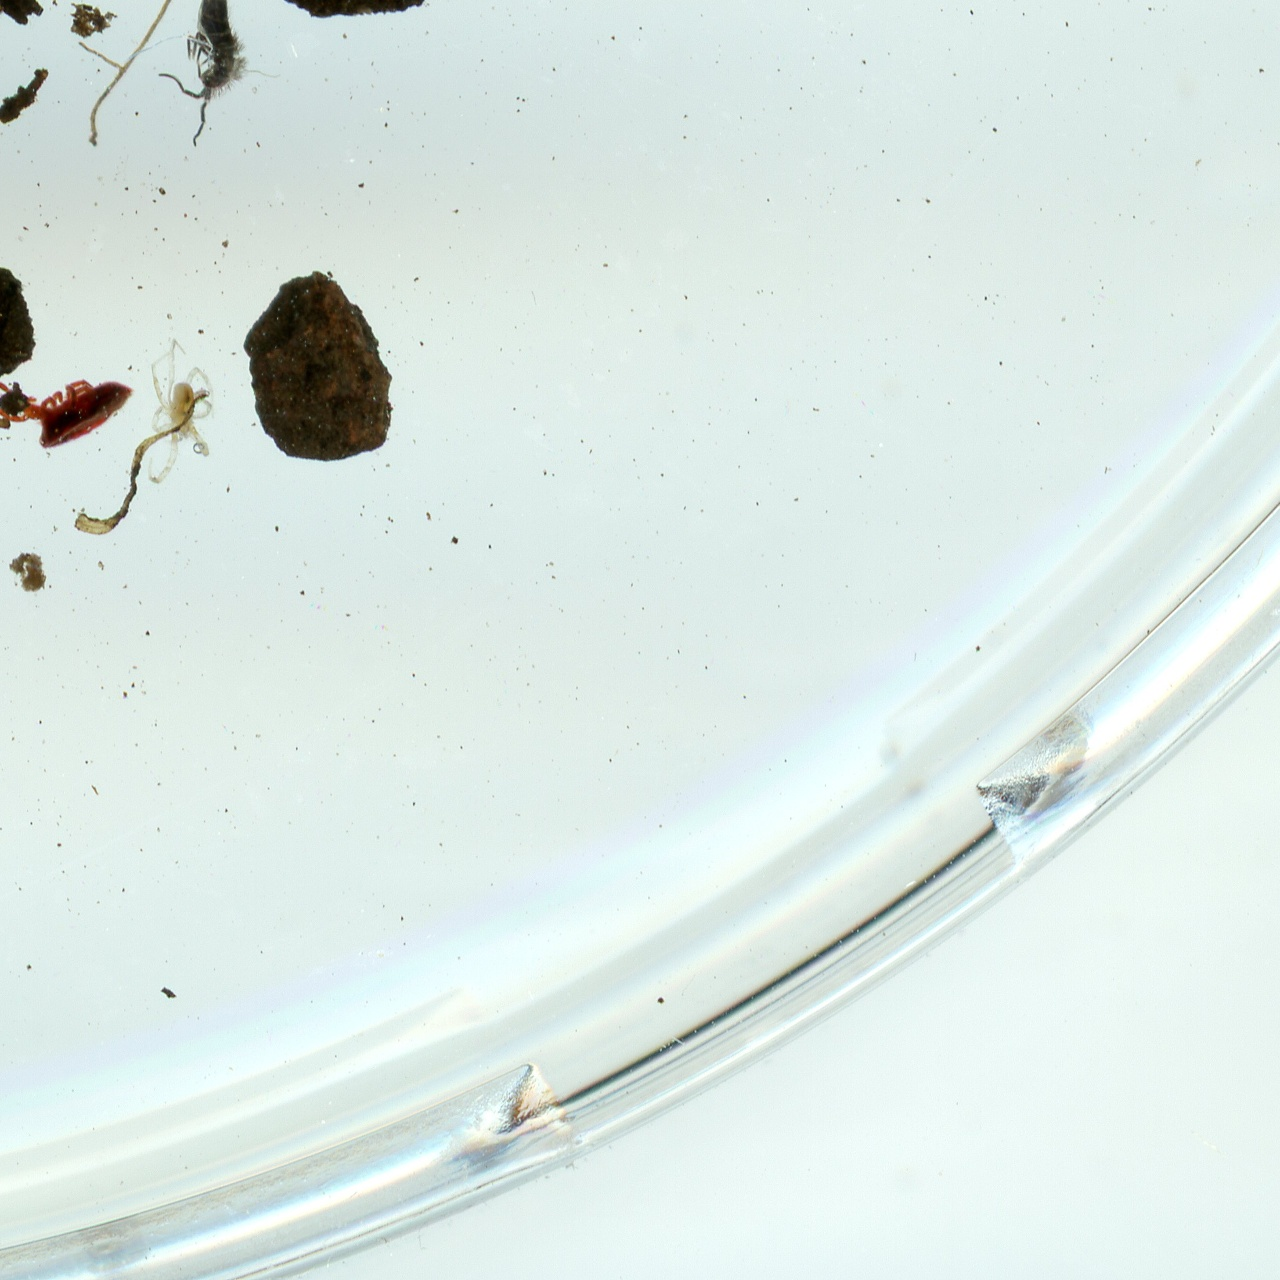arthropod: (0, 350, 143, 466), (156, 0, 252, 150), (143, 332, 217, 488)
